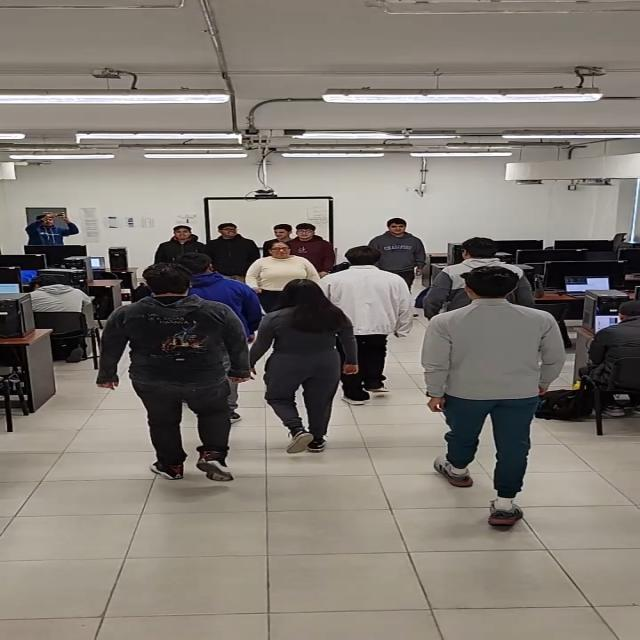Persona: (419, 267, 549, 527), (117, 268, 247, 482), (266, 281, 358, 444), (342, 249, 408, 405), (375, 211, 432, 277), (452, 234, 519, 277), (208, 225, 255, 282), (257, 244, 314, 285), (26, 204, 81, 246), (293, 226, 336, 268), (159, 223, 206, 253), (266, 222, 296, 242)
